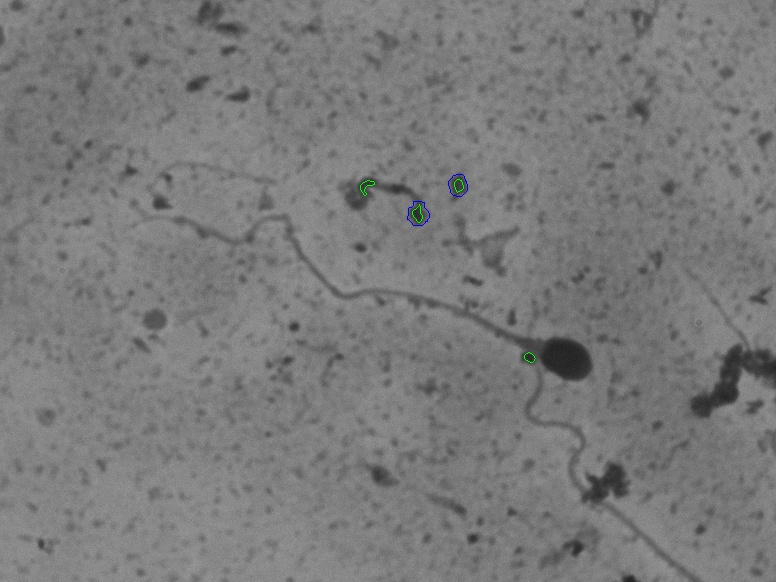Normal: (171, 206, 615, 396)
